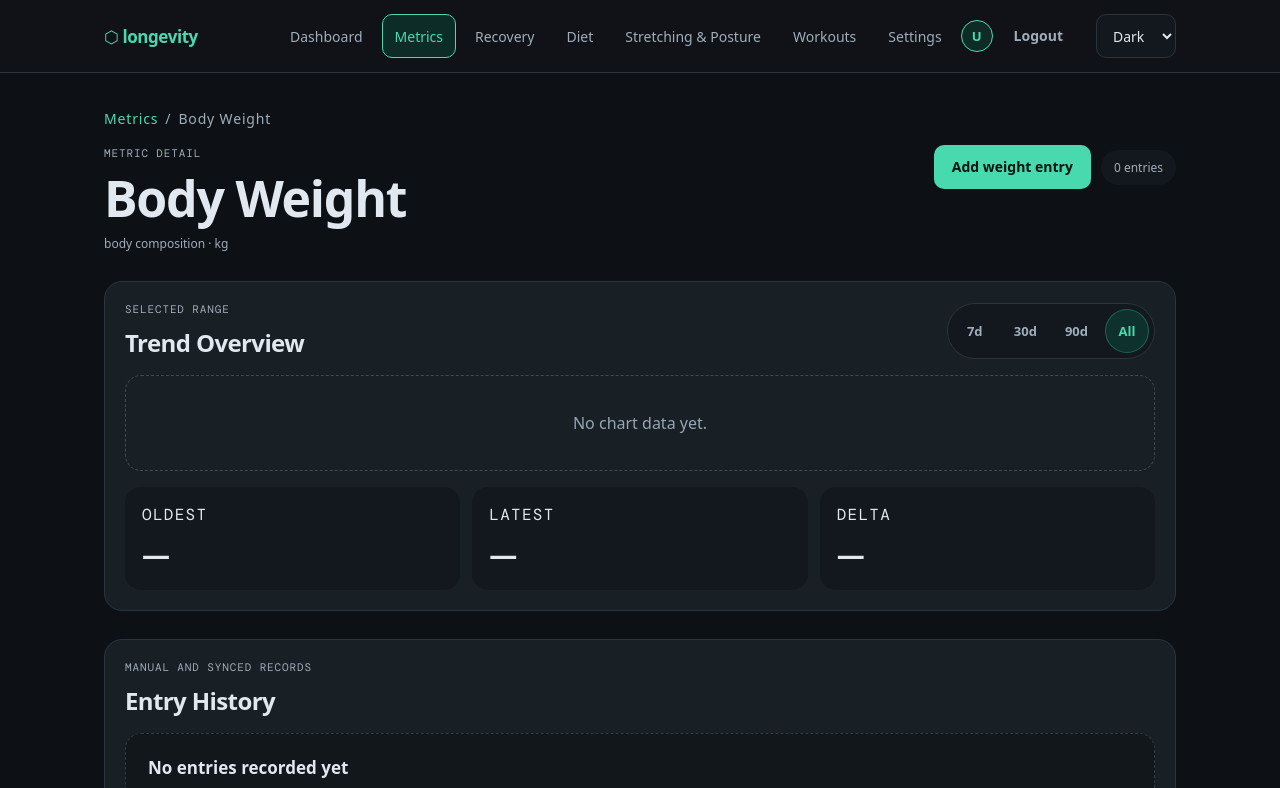
Test: metric detail route › rejects a weight outside the Body Weight accepted range
The width and height of the screenshot is (1280, 788).
Step 1. Click the button "Add weight entry" → (1012, 167), box x1=934 y1=145 x2=1091 y2=189
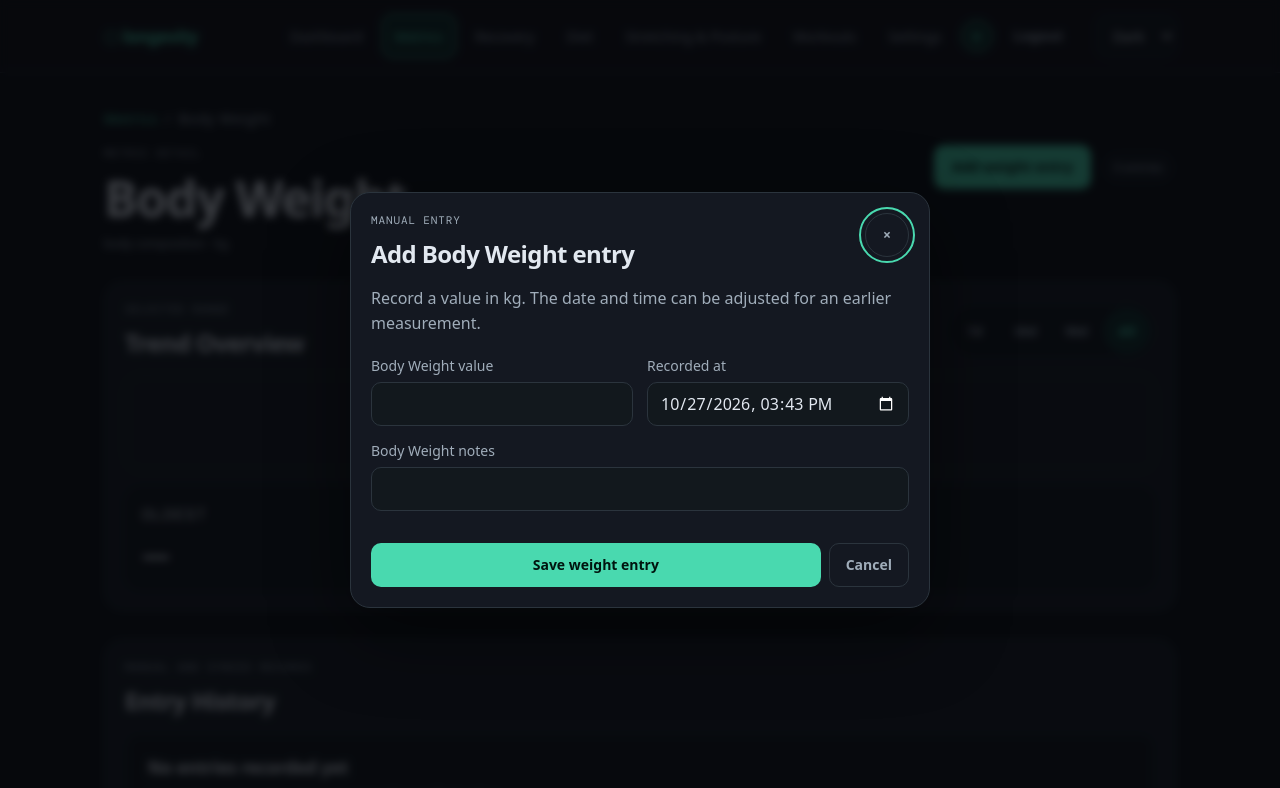
Step 2. Type "401" into the number field labelled "Body Weight value" → (502, 404), box x1=371 y1=382 x2=633 y2=426
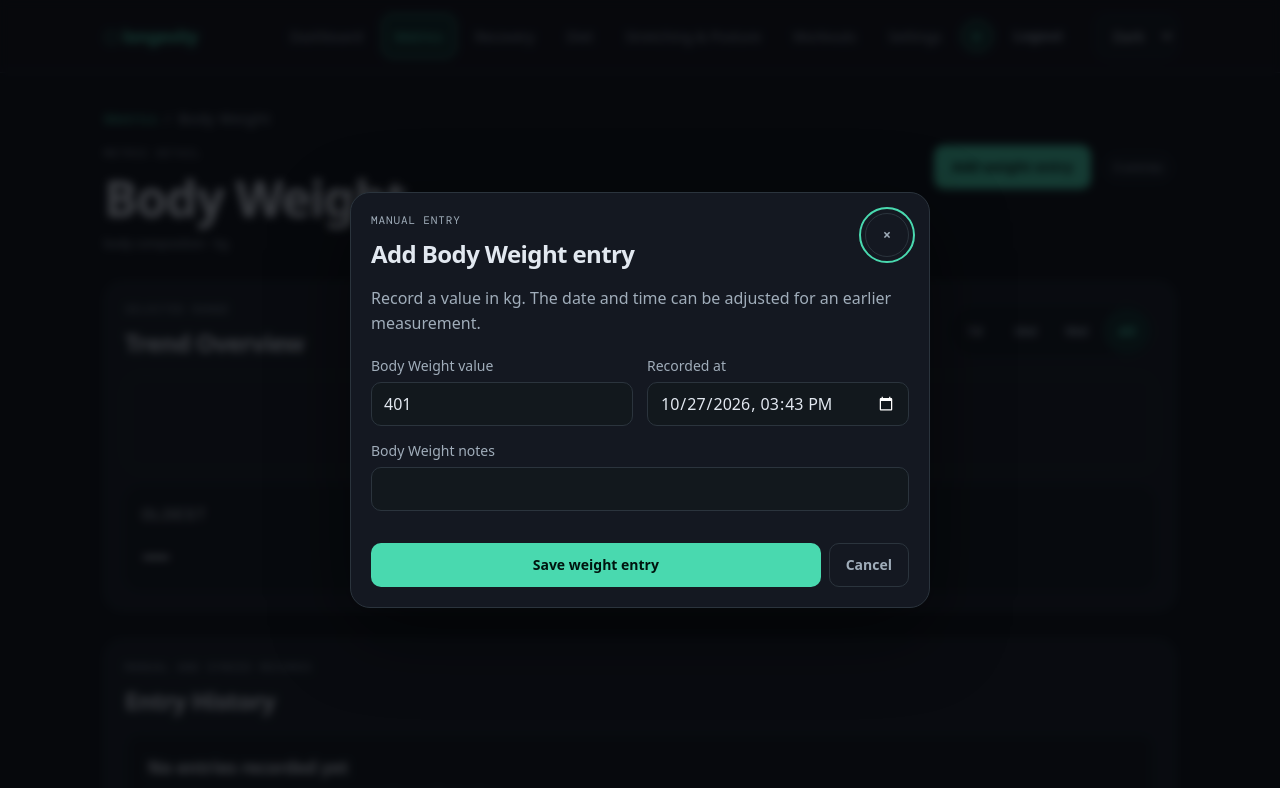
Step 3. Submit the form, box x1=371 y1=355 x2=909 y2=587
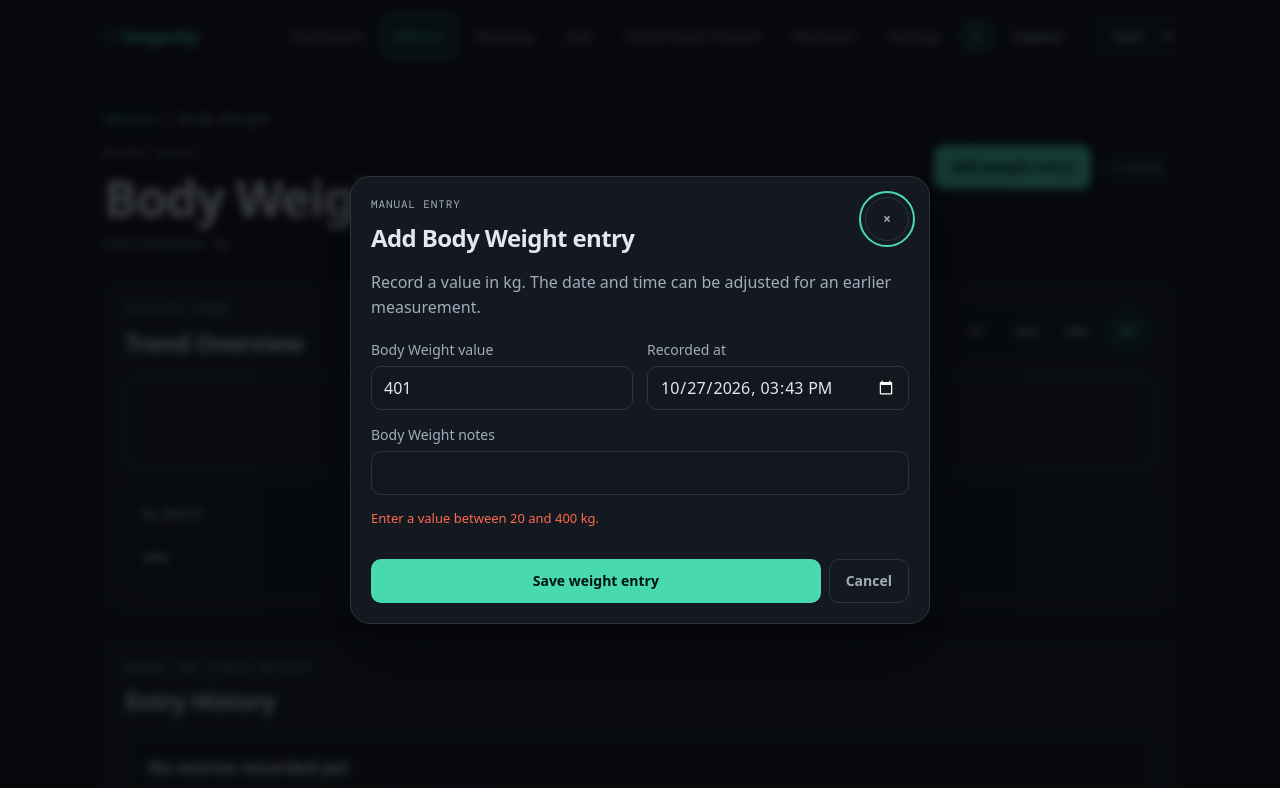
Now the message shows "between 20 and 400 kg", box x1=371 y1=509 x2=599 y2=527
